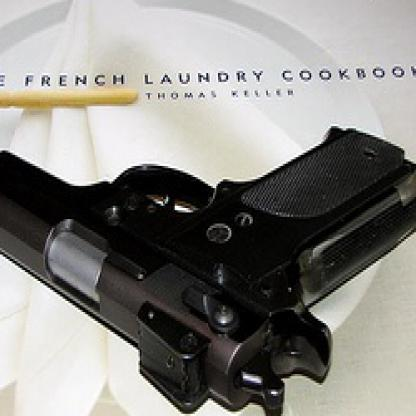gun: (0, 121, 415, 414)
